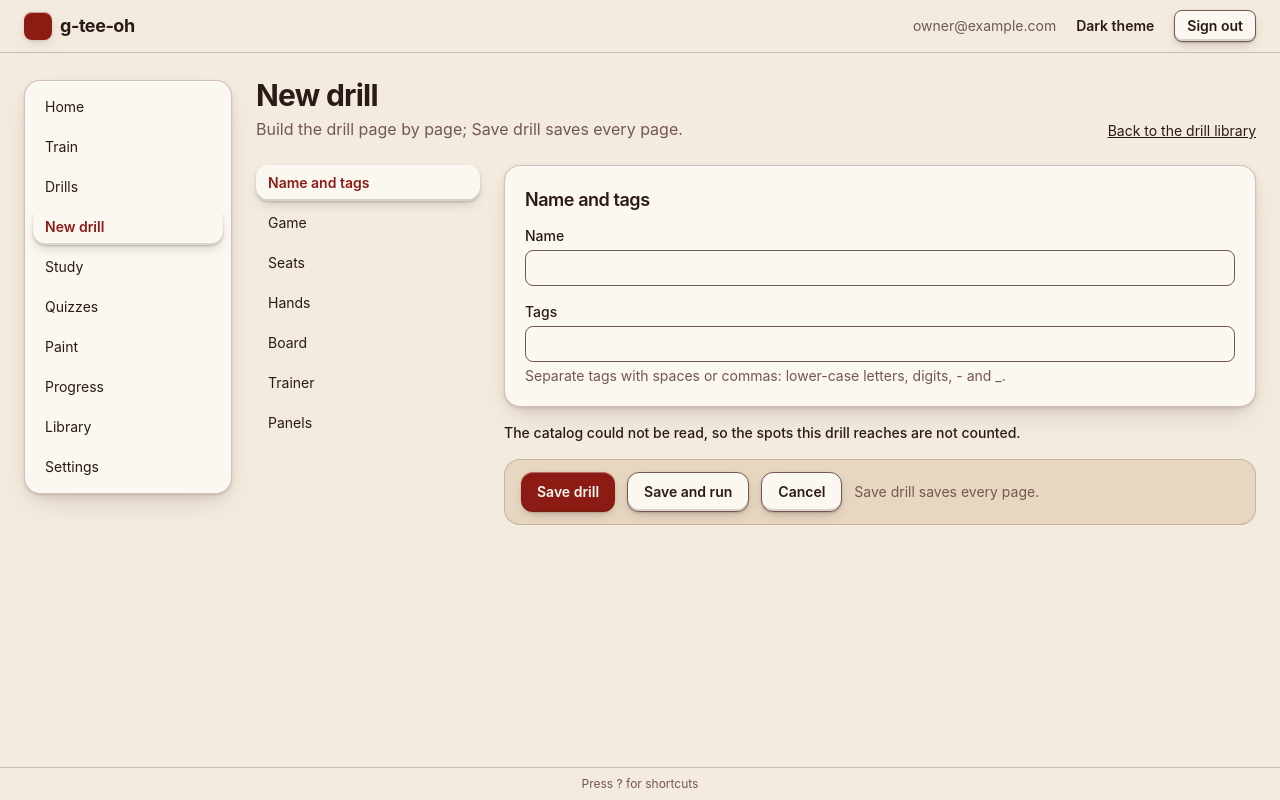
it: R3.14 the leave guard (PM note 3, O-405) › R3.14 a dirty draft asks before leaving: Keep editing stays with the draft, Leave goes
Check: the heading "New drill" is shown, box x1=256 y1=77 x2=378 y2=113
Type "Unsaved" into the field labelled "Name" at {"x": 880, "y": 268}, box x1=525 y1=250 x2=1235 y2=286
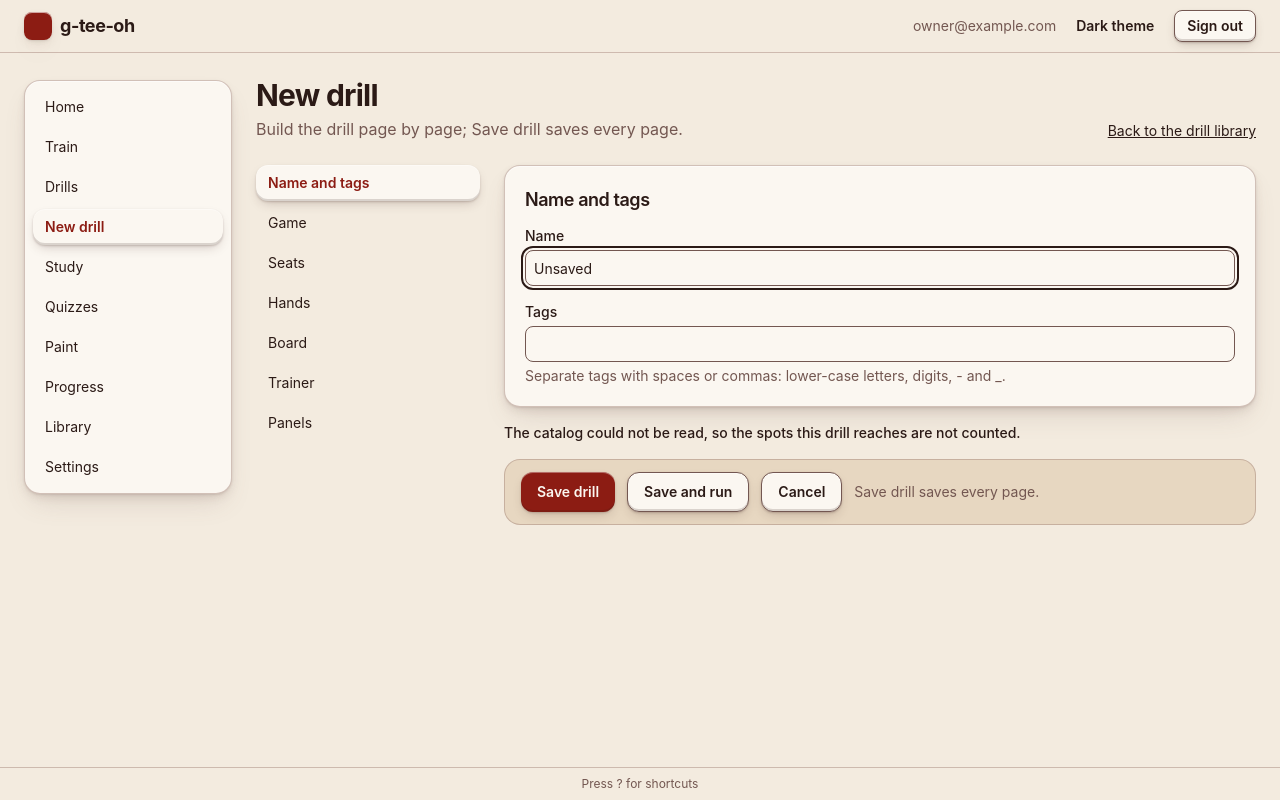
Click the link "Drills" at {"x": 62, "y": 186}, box x1=45 y1=178 x2=78 y2=195
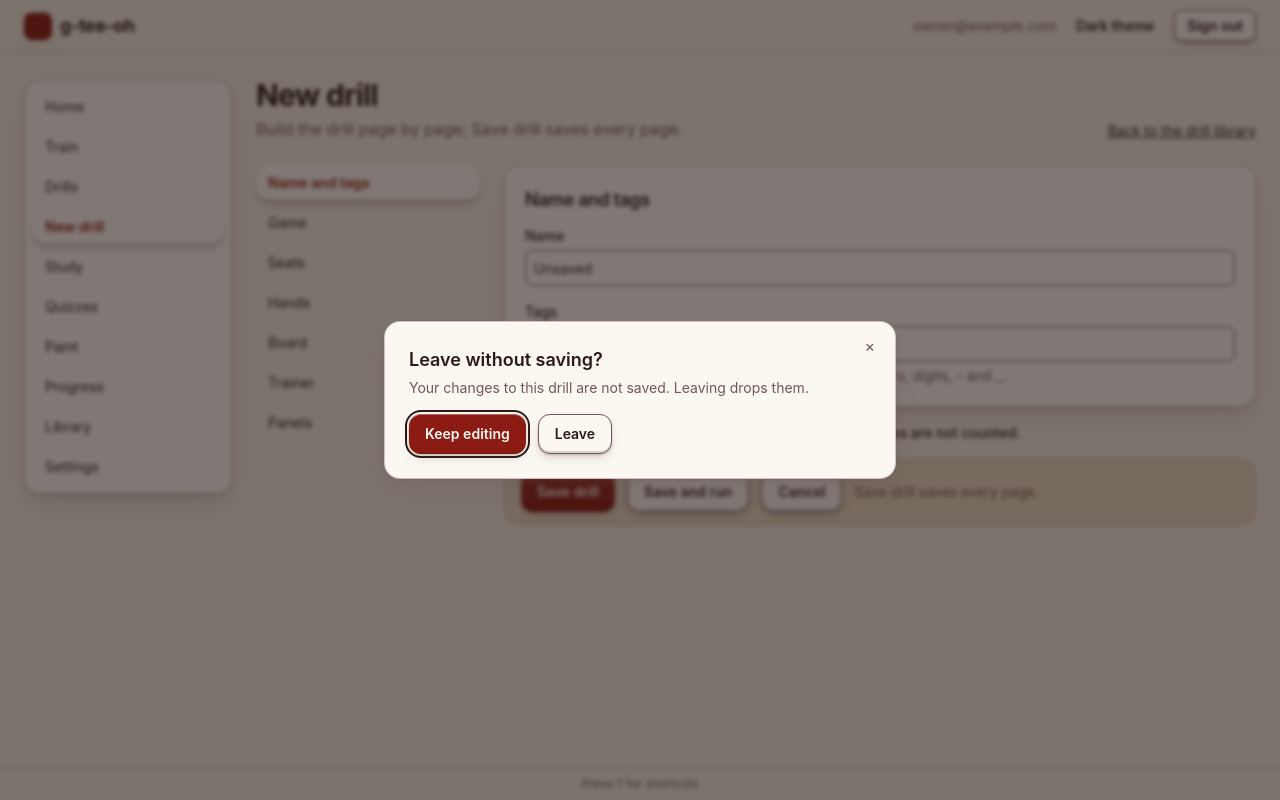
Click the button "Keep editing" at {"x": 467, "y": 434}, box x1=409 y1=414 x2=526 y2=454
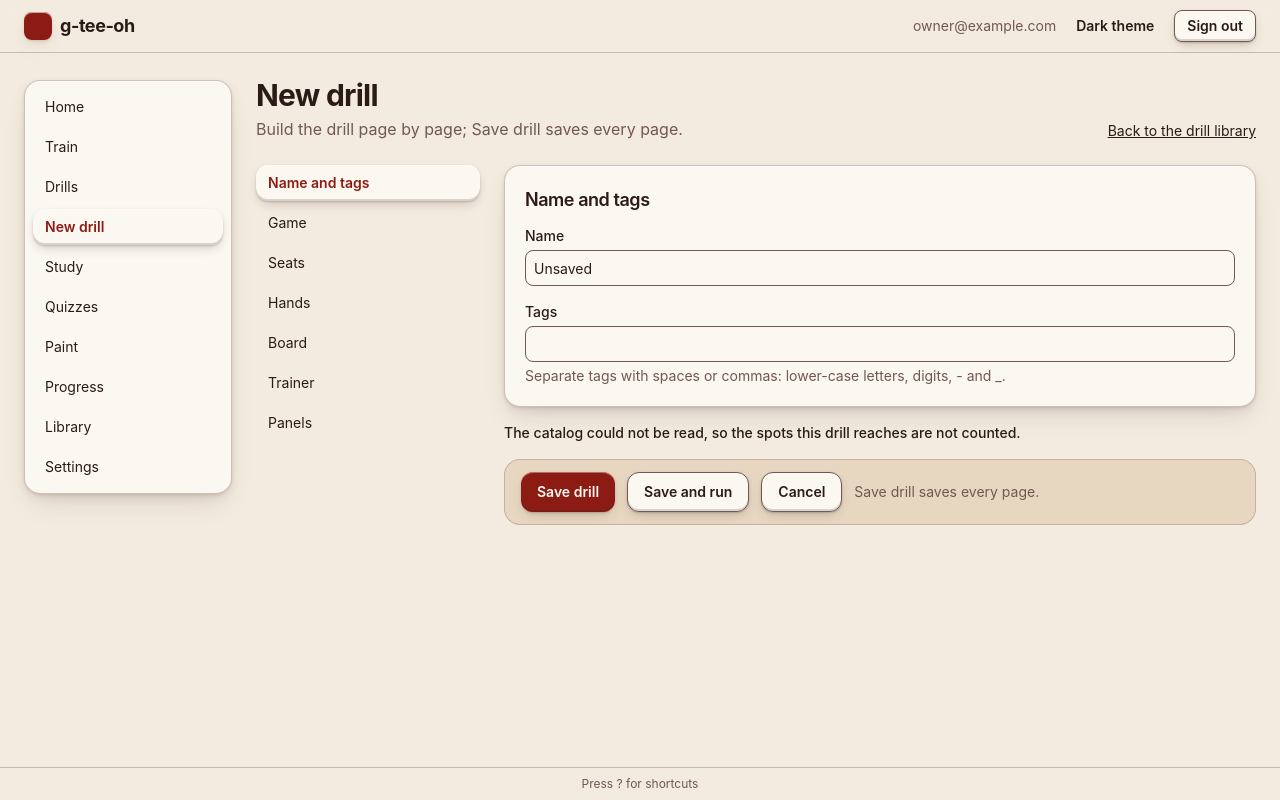
Check: the dialog is gone
Click the link "Drills" at {"x": 62, "y": 186}, box x1=45 y1=178 x2=78 y2=195
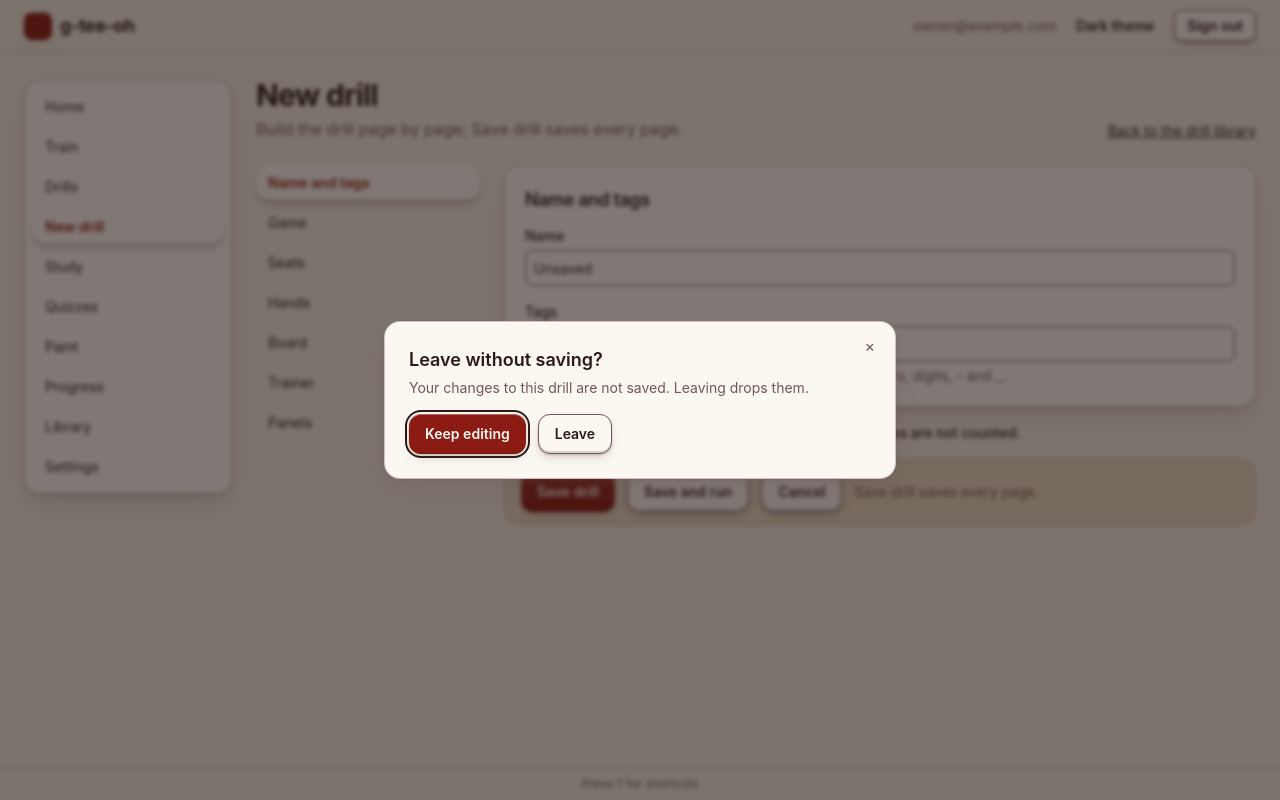
Click the button "Leave" at {"x": 575, "y": 434}, box x1=538 y1=414 x2=612 y2=454
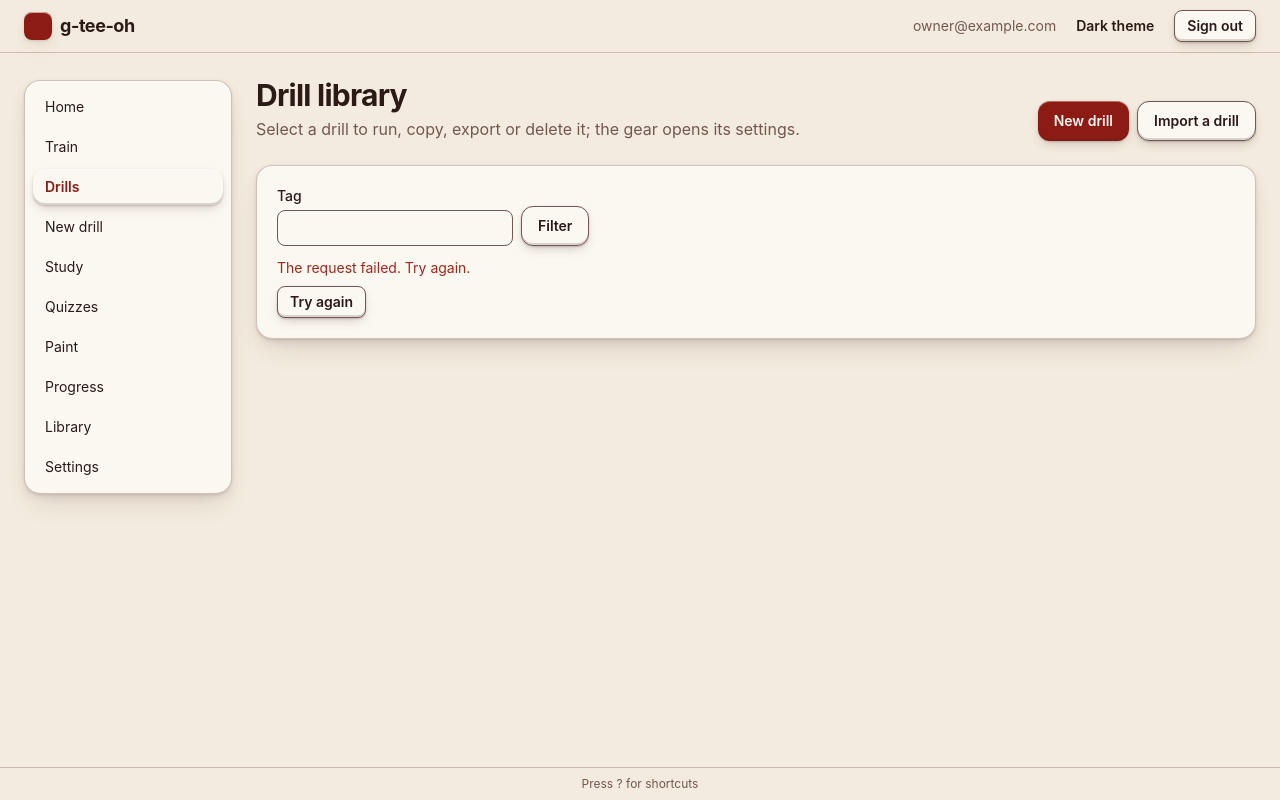
Check: the heading "Drill library" is shown, box x1=256 y1=77 x2=407 y2=113
